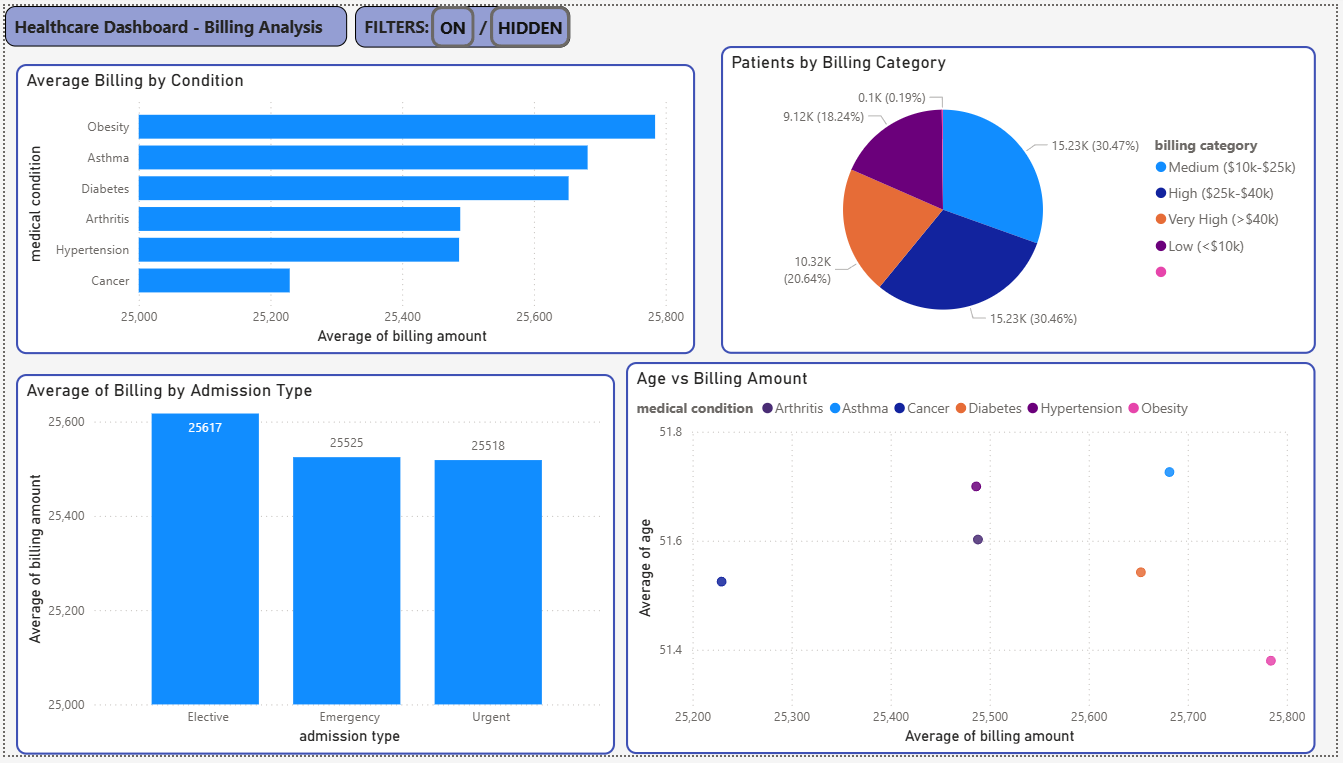

The page's visual inventory and layout, read from the dashboard file:
{"tool":"powerbi","page":{"name":"Billing Analysis","canvas":[1280,720],"ordinal":2},"visuals":[{"type":"textbox","box":[336.9,0,207,40],"z":0,"group":"g1"},{"type":"barChart","title":"Average Billing by Condition","fields":{"Category":["healthcare_clean.medical_condition"],"Y":["Avg(healthcare_clean.billing_amount)"]},"box":[10.7,55.4,652.6,279.1],"z":0},{"type":"columnChart","title":"Average of Billing by Admission Type","fields":{"Category":["healthcare_clean.admission_type"],"Y":["Avg(healthcare_clean.billing_amount)"]},"box":[10.7,354,575.8,365.7],"z":1000},{"type":"scatterChart","title":"Age vs Billing Amount","fields":{"X":["Avg(healthcare_clean.billing_amount)"],"Series":["healthcare_clean.medical_condition"],"Y":["Avg(healthcare_clean.age)"]},"box":[597.2,342.4,663.3,377.4],"z":2000},{"type":"pieChart","title":"Patients by Billing Category","fields":{"Category":["healthcare_clean.billing_category"],"Y":["CountNonNull(healthcare_clean.name)"]},"box":[688.6,38.9,571.9,295.7],"z":3000},{"type":"textbox","box":[0,0,328.9,39.1],"z":4000},{"type":"group","id":"g1","title":"Group 2","box":[336.9,0,207.2,39.9],"z":6000},{"type":"actionButton","box":[409.9,0,42,40],"z":9000,"group":"g1"},{"type":"actionButton","box":[466.9,0,77,40],"z":11000,"group":"g1"}]}

Visuals, with their boxes in screenshot pixels (x1, y1, x2, y2), scaled from the page's 1280x720 canvas onto the 1343x763 screenshot:
textbox: crop(353, 0, 571, 42)
"Average Billing by Condition" barChart: crop(11, 59, 696, 354)
"Average of Billing by Admission Type" columnChart: crop(11, 375, 615, 762)
"Age vs Billing Amount" scatterChart: crop(627, 363, 1323, 762)
"Patients by Billing Category" pieChart: crop(722, 41, 1323, 355)
textbox: crop(0, 0, 345, 41)
"Group 2" group: crop(353, 0, 571, 42)
actionButton: crop(430, 0, 474, 42)
actionButton: crop(490, 0, 571, 42)
